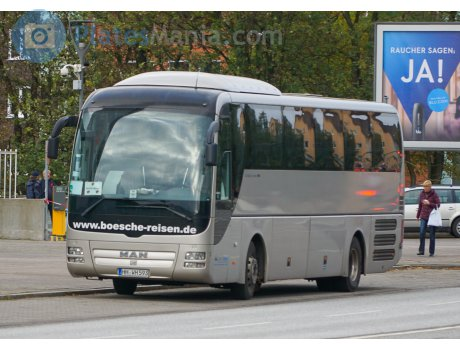License Plates: (118, 264, 151, 278)
